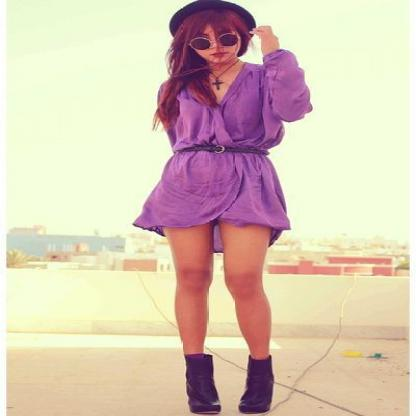dress: (132, 49, 312, 236)
hat: (172, 0, 254, 22)
shoe: (184, 354, 273, 414)
